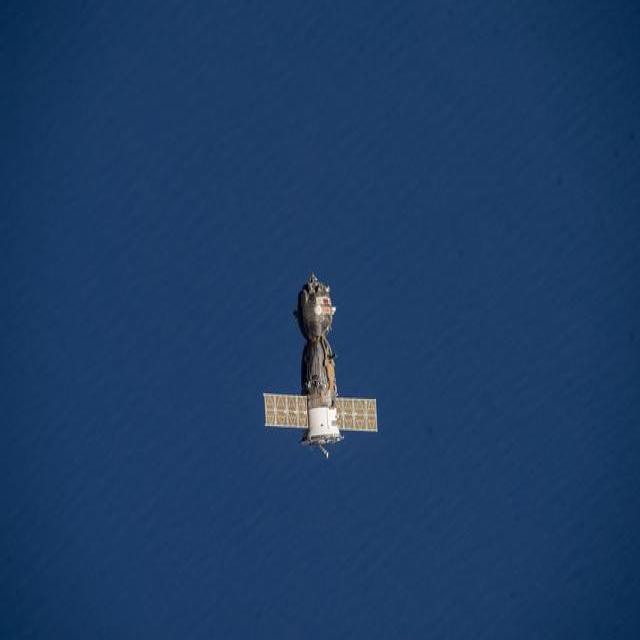medium_debris: (258, 263, 378, 480)
